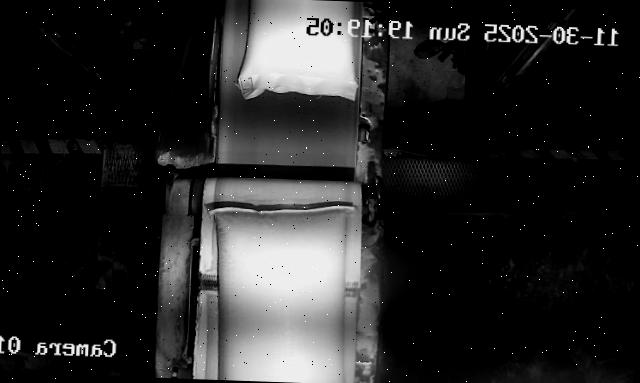bag: (203, 201, 355, 383), (238, 0, 359, 99)
